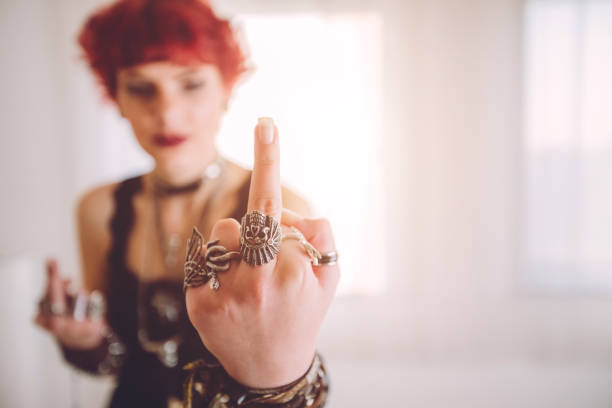insulting_gesture: (180, 114, 339, 388)
